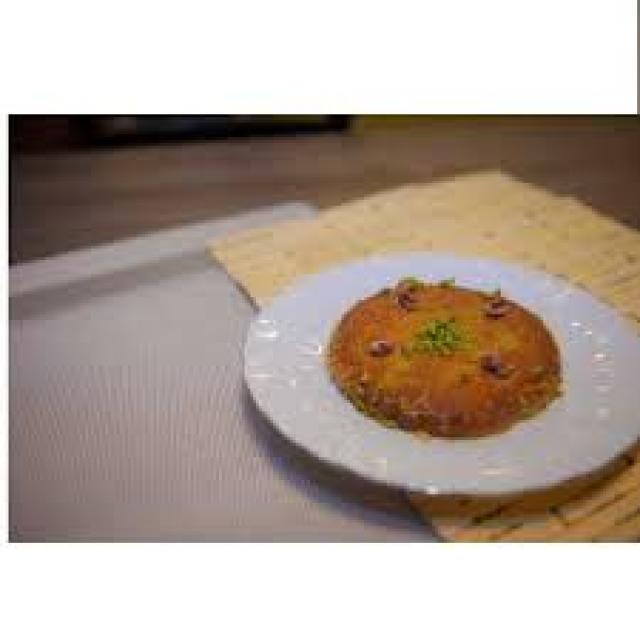konafa: (329, 273, 565, 443)
